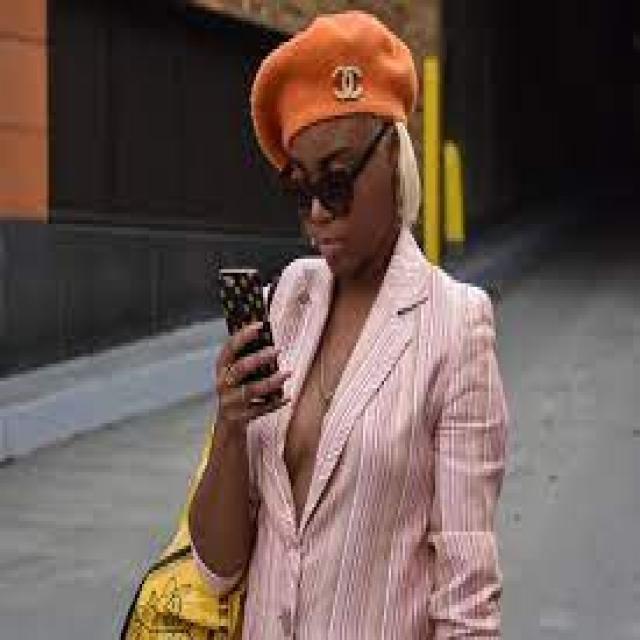hat: (239, 5, 428, 165)
